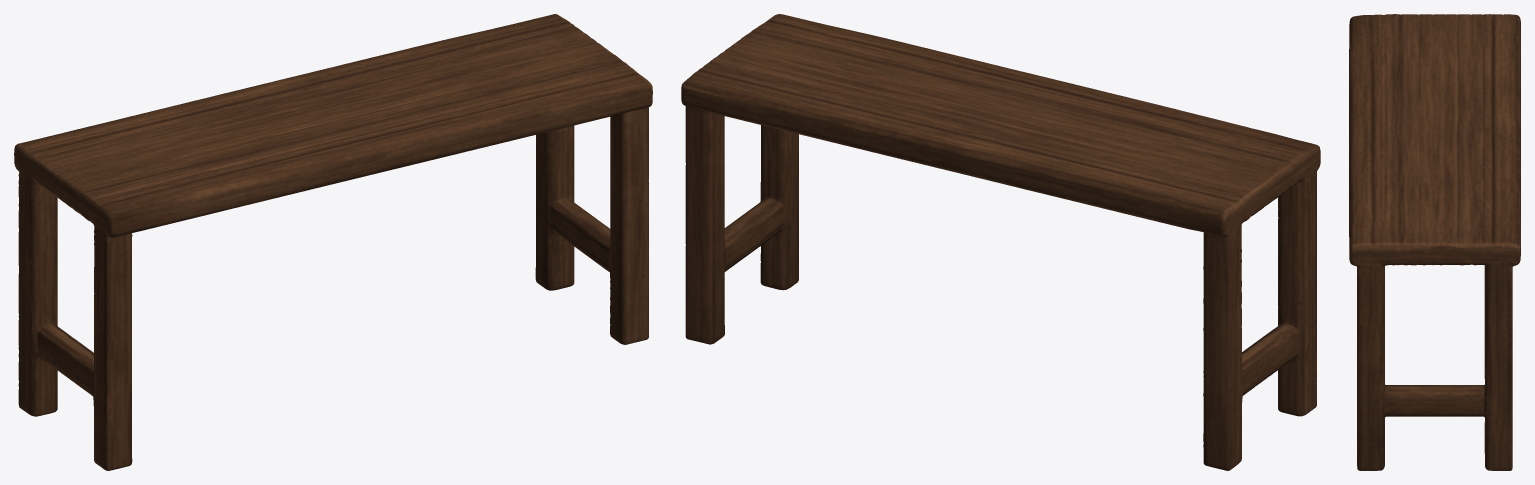
Rendered from item_28f9efae.glb.
The picture shows the model from 3 angles, left to right: view 1: azimuth 30°, elevation 25°; view 2: azimuth 150°, elevation 25°; view 3: azimuth 270°, elevation 25°; orthographic projection. The views are drawn at different scales.
Visible parts, largest first — view 1: world; view 2: world; view 3: world.
Part boxes in pixels (x1,y1,x2,y2): world: (14, 14, 652, 470); world: (681, 14, 1320, 470); world: (1349, 14, 1520, 470).
Size of the model in its own units: 1.8 by 0.8304 by 0.5661.
Materials: 1 (1 with a texture image).
